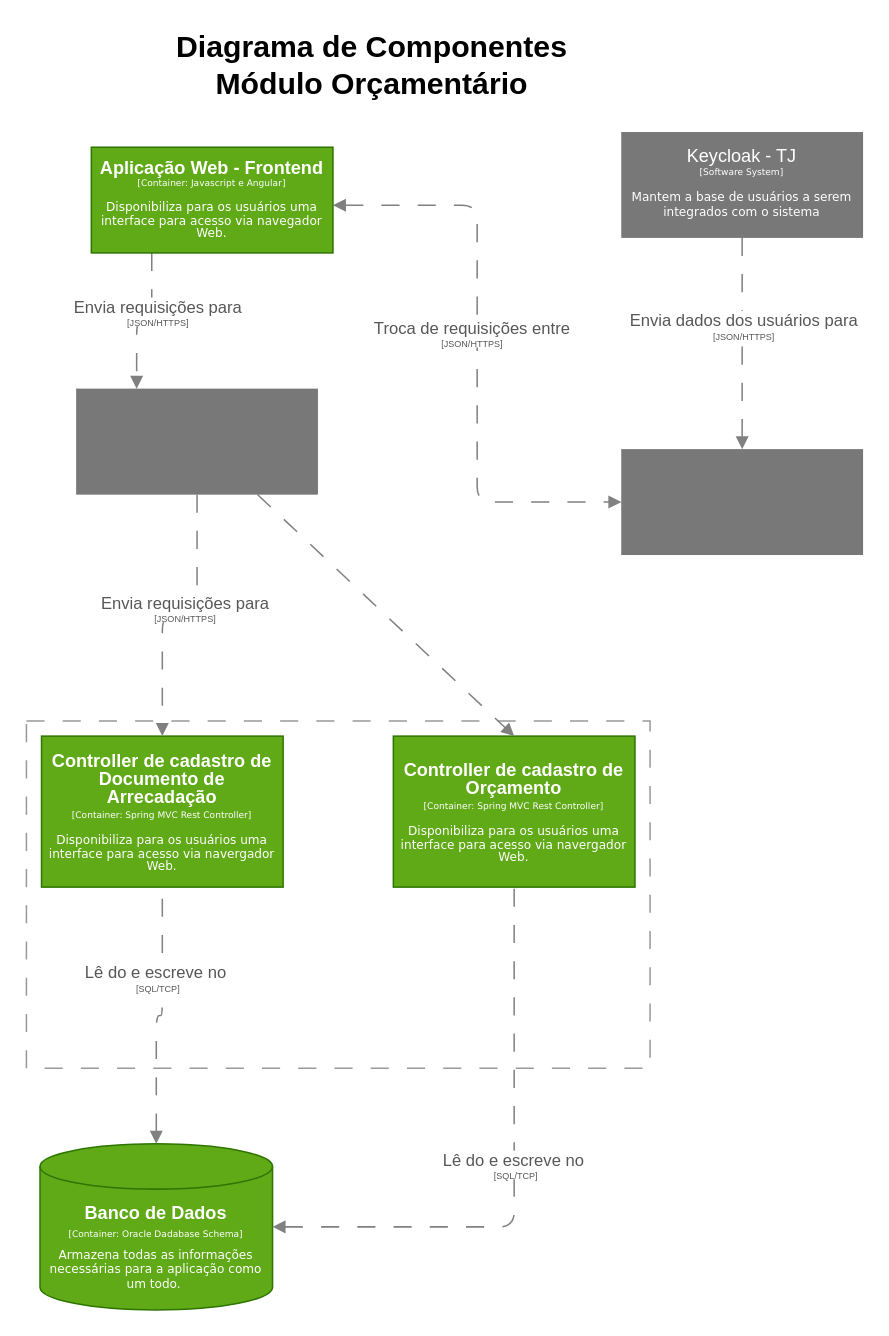
Image size: 889x1336. Some labels were removed from this diagram. Each missing label, with the box of its shape:
API Orçamento - Backend [Component]: (25, 720, 650, 1068)
MG- API [Software System] Faz toda a gestão de acesso à API.: (76, 388, 317, 494)
SSC [Software System] Faz a gestão de acesso de usuários à aplicação Web.: (621, 448, 862, 554)
